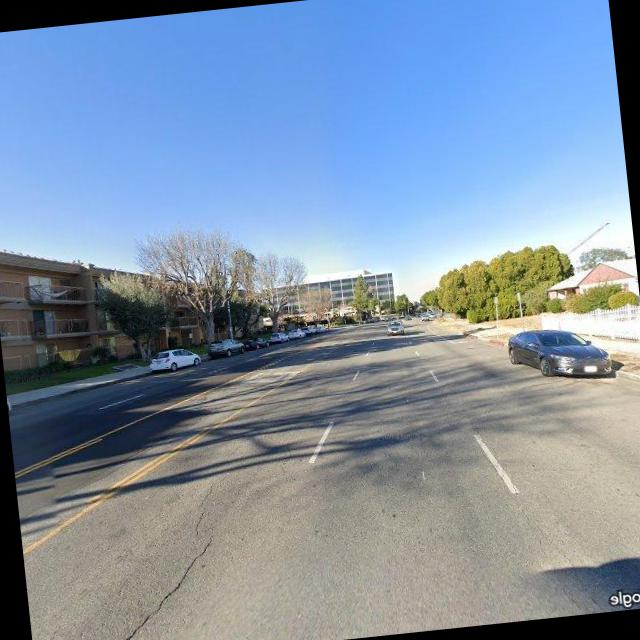pothole: (93, 431, 277, 640)
